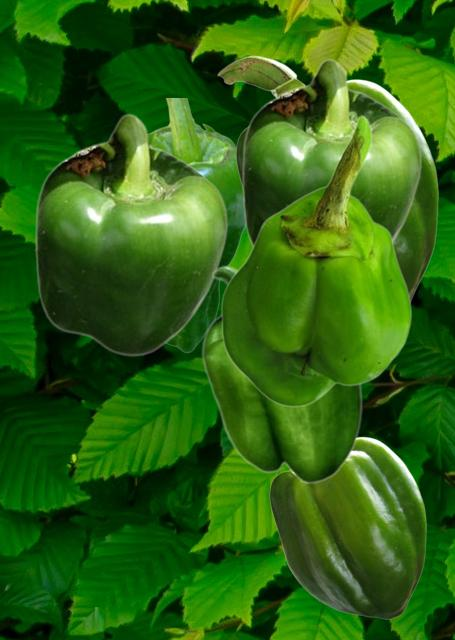bell_pepper: (220, 114, 411, 406), (217, 55, 437, 300), (34, 113, 227, 356), (201, 265, 362, 483), (241, 58, 421, 247), (269, 436, 425, 618), (149, 98, 244, 352)
